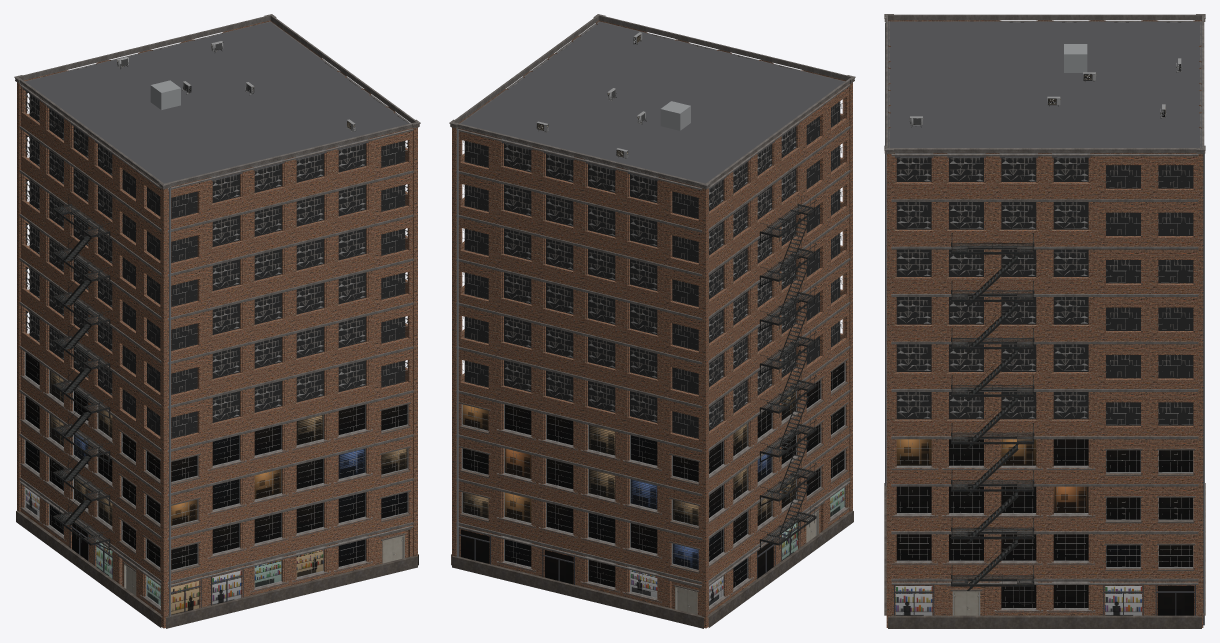
Rendered from loft_tower.gltf.
The picture shows the model from 3 angles, left to right: view 1: azimuth 30°, elevation 25°; view 2: azimuth 150°, elevation 25°; view 3: azimuth 270°, elevation 25°; orthographic projection. The views are drawn at different scales.
Visible parts, largest first — view 1: loft_tower; view 2: loft_tower; view 3: loft_tower.
Boxes of the visible parts, left/top/right/bottom form: loft_tower: left=14, top=14, right=420, bottom=628; loft_tower: left=449, top=14, right=855, bottom=628; loft_tower: left=884, top=14, right=1205, bottom=628.
Size of the model in its own units: 20.83 by 31.12 by 18.42.
Materials: 16 (11 with a texture image).
